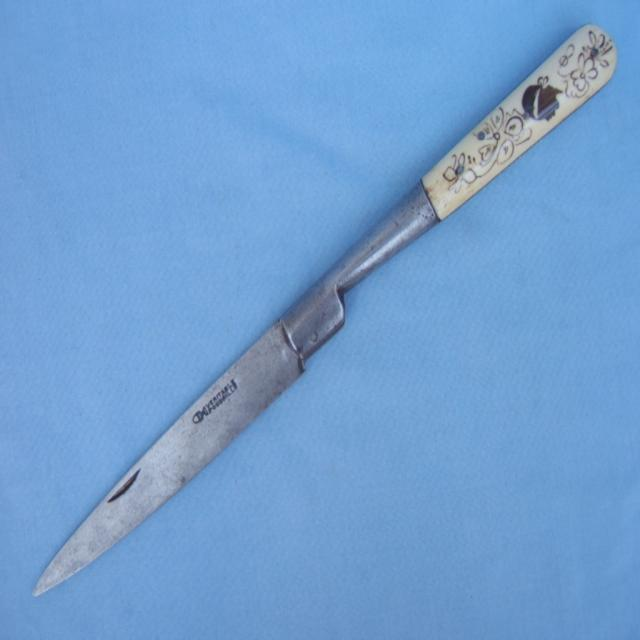Knife: (35, 26, 616, 594)
